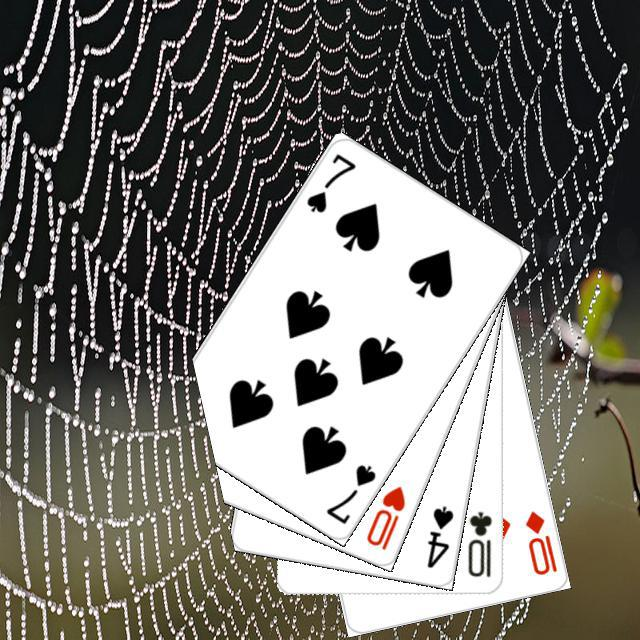10c: (463, 507, 494, 579)
10d: (520, 506, 559, 577)
10h: (361, 481, 407, 552)
4s: (422, 501, 455, 570)
7s: (321, 459, 378, 526), (301, 148, 358, 215)
